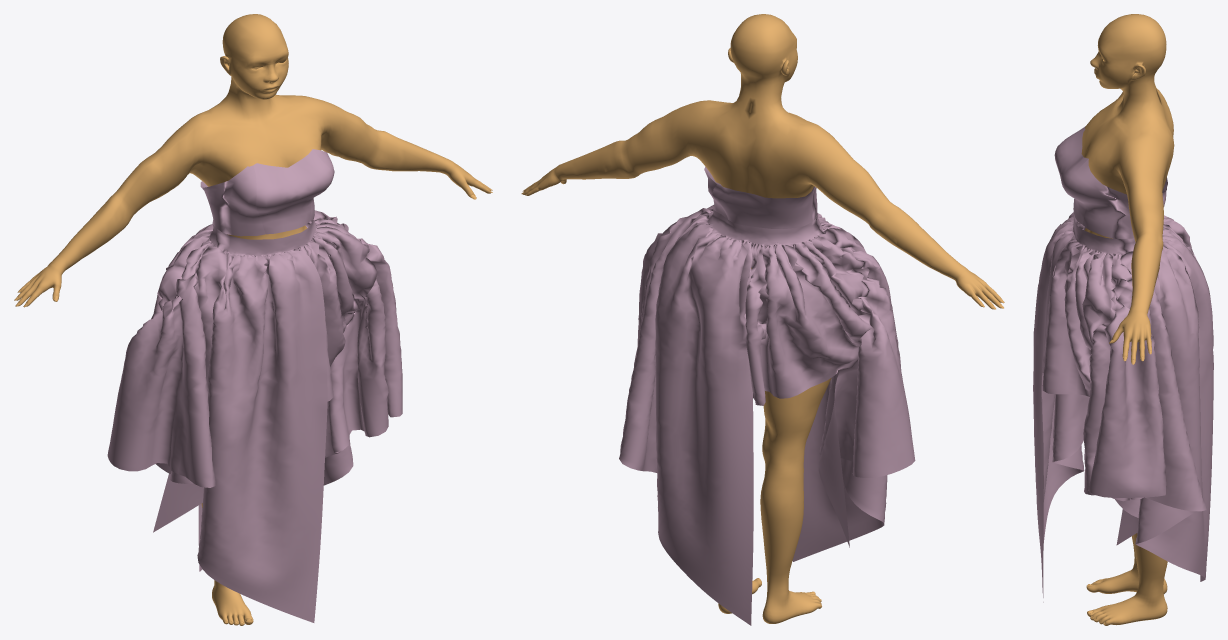
The model's file is dress8.glb.
3 renders of one model, left to right at view 1: azimuth 30°, elevation 25°; view 2: azimuth 150°, elevation 25°; view 3: azimuth 270°, elevation 25°, orthographic.
Visible parts, largest first — view 1: Project 1, Body; view 2: Project 1, Body; view 3: Project 1, Body.
Part boxes in pixels (x1=…): Project 1: x1=107, y1=149, x2=402, y2=622; Body: x1=16, y1=14, x2=492, y2=625; Project 1: x1=619, y1=167, x2=915, y2=625; Body: x1=523, y1=14, x2=1001, y2=623; Project 1: x1=1033, y1=126, x2=1213, y2=602; Body: x1=1081, y1=14, x2=1174, y2=625.
Size of the model in its own units: 1.58 by 1.85 by 0.5151.
